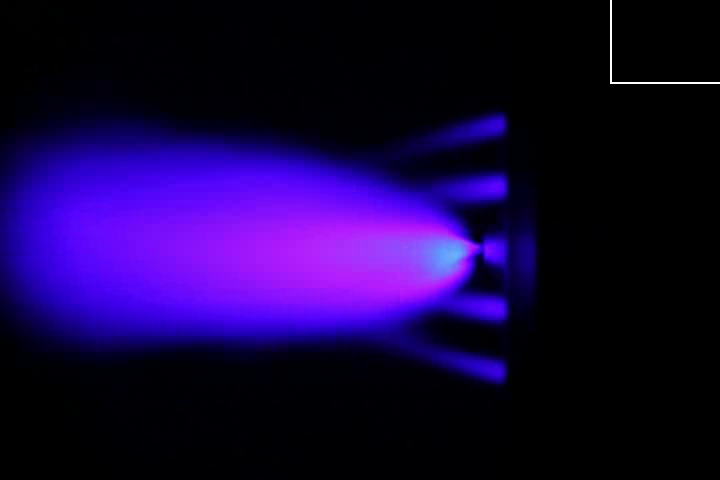burner cap: (480, 236, 513, 269)
pilot flame: (372, 328, 508, 386), (426, 111, 510, 146), (418, 170, 509, 202), (446, 292, 512, 323)
stable: (288, 199, 485, 301)
